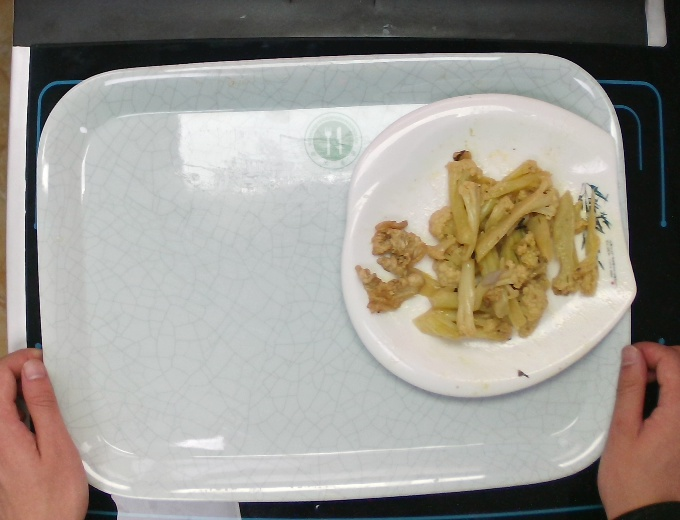JYsf-Mian_Pan: (335, 88, 641, 402)
